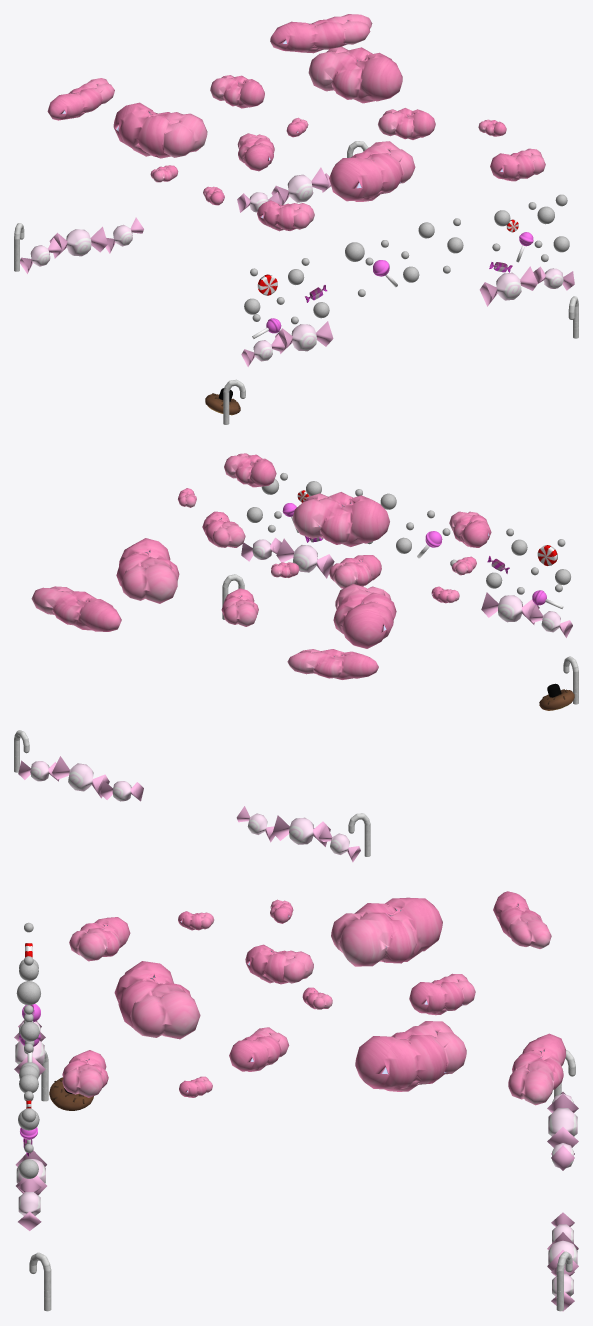
File: Candy_pack.obj
3 views of the same model, one above another, from view 1: azimuth 30°, elevation 25°; view 2: azimuth 150°, elevation 25°; view 3: azimuth 270°, elevation 25° (orthographic). The views are drawn at different scales.
Parts seen in each view (by area): view 1: Pinkcloud18, Pinkcloud22, Pinkcloud14, Pinkcloud16, Pinkcloud20, Pinkcloud6, Pinkcloud28, Pinkcloud2, Pinkcloud12, Candy22, Pinkcloud26, Candy23 (+6 smaller); view 2: Pinkcloud14, Pinkcloud22, Pinkcloud18, Pinkcloud16, Pinkcloud20, Pinkcloud2, Pinkcloud26, Pinkcloud12, Pinkcloud6, Pinkcloud28, Candy22, Candy23 (+8 smaller); view 3: Pinkcloud22, Pinkcloud18, Pinkcloud14, Pinkcloud16, Pinkcloud20, Pinkcloud26, Pinkcloud28, Pinkcloud12, Pinkcloud6, Pinkcloud2, Candy29, Candy21 (+6 smaller).
Part boxes in pixels (x1,y1,x2,y2): Pinkcloud18: (308, 46, 402, 103); Pinkcloud22: (113, 102, 207, 158); Pinkcloud14: (329, 141, 415, 201); Pinkcloud16: (270, 14, 372, 53); Pinkcloud20: (47, 78, 114, 120); Pinkcloud6: (378, 108, 435, 139); Pinkcloud28: (210, 75, 264, 108); Pinkcloud2: (490, 148, 545, 181); Pinkcloud12: (257, 200, 314, 231); Candy22: (479, 266, 537, 306); Pinkcloud26: (237, 133, 274, 171); Candy23: (275, 321, 333, 353); Pinkcloud14: (292, 492, 389, 546); Pinkcloud22: (333, 584, 396, 648); Pinkcloud18: (116, 538, 179, 603); Pinkcloud16: (31, 586, 121, 631); Pinkcloud20: (287, 649, 378, 679); Pinkcloud2: (224, 453, 276, 487); Pinkcloud26: (329, 555, 381, 588); Pinkcloud12: (449, 511, 491, 547); Pinkcloud6: (202, 511, 245, 547); Pinkcloud28: (221, 588, 258, 626); Candy22: (276, 538, 334, 578); Candy23: (481, 592, 539, 624); Pinkcloud22: (331, 897, 442, 966); Pinkcloud18: (355, 1021, 466, 1091); Pinkcloud14: (114, 961, 200, 1039); Pinkcloud16: (508, 1033, 565, 1105); Pinkcloud20: (493, 891, 551, 948); Pinkcloud26: (245, 944, 313, 984); Pinkcloud28: (409, 973, 475, 1015); Pinkcloud12: (69, 917, 130, 961); Pinkcloud6: (229, 1027, 289, 1071); Pinkcloud2: (62, 1050, 108, 1097); Candy29: (547, 1094, 578, 1147); Candy21: (17, 1179, 41, 1230).
Size of the model in its own units: 140 by 74.86 by 155.
